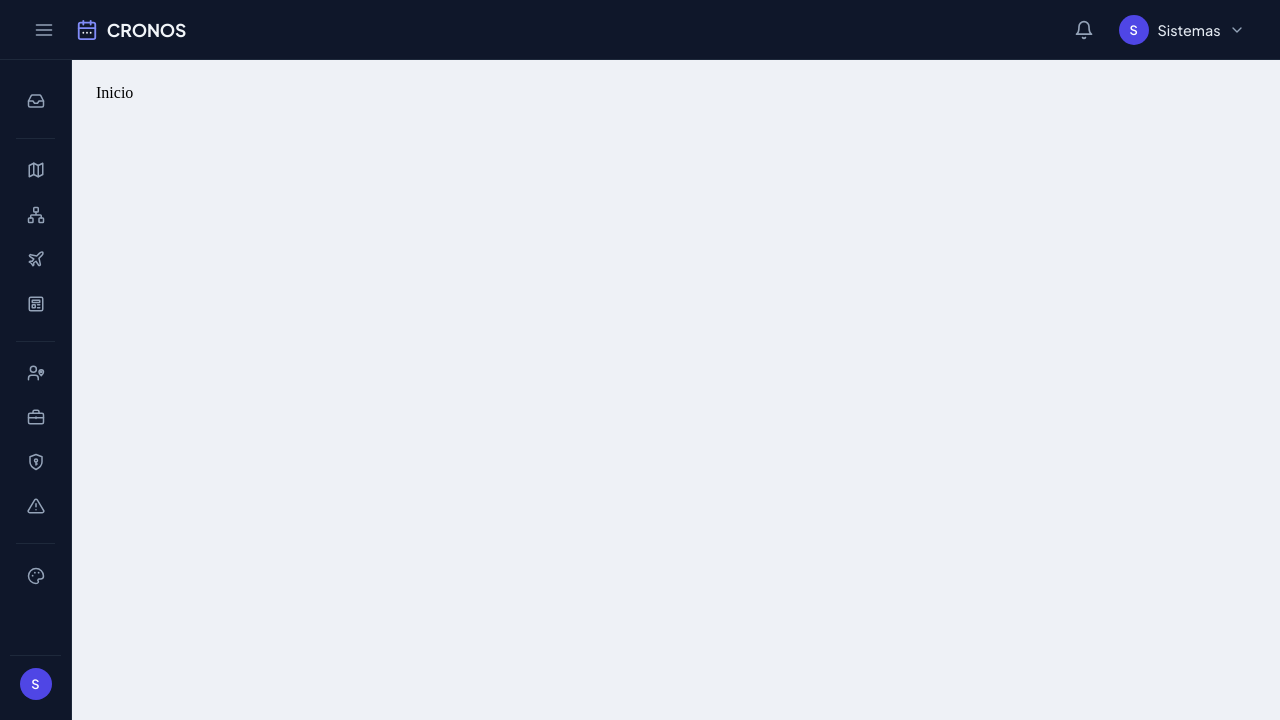
Test: Layout Mis tareas navigation › no muestra Calendario Tuvet en el menú y ofrece cambiar todo el contexto a Sistemas
Click the button with aria-label "Menú de Sistemas" at (1184, 30), box [1112, 9, 1256, 50]
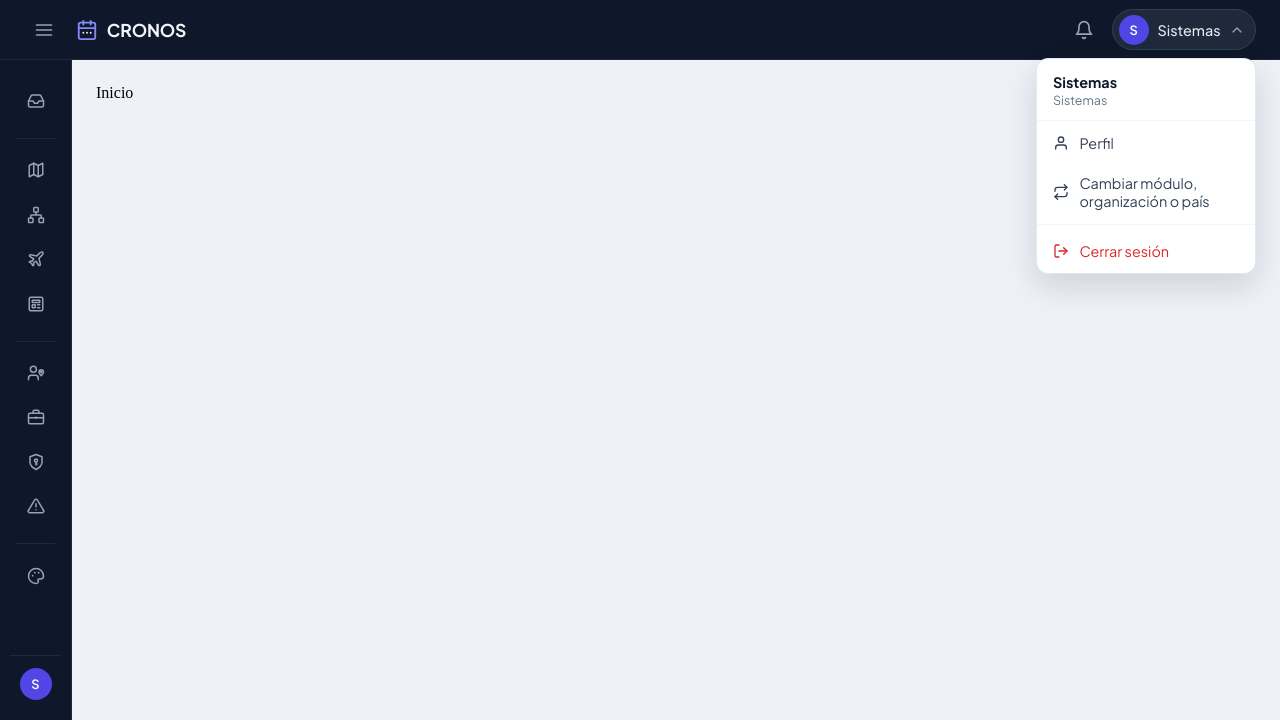
expect the menu item "Cambiar módulo, organización o país" is shown: met, box [1037, 165, 1255, 220]
